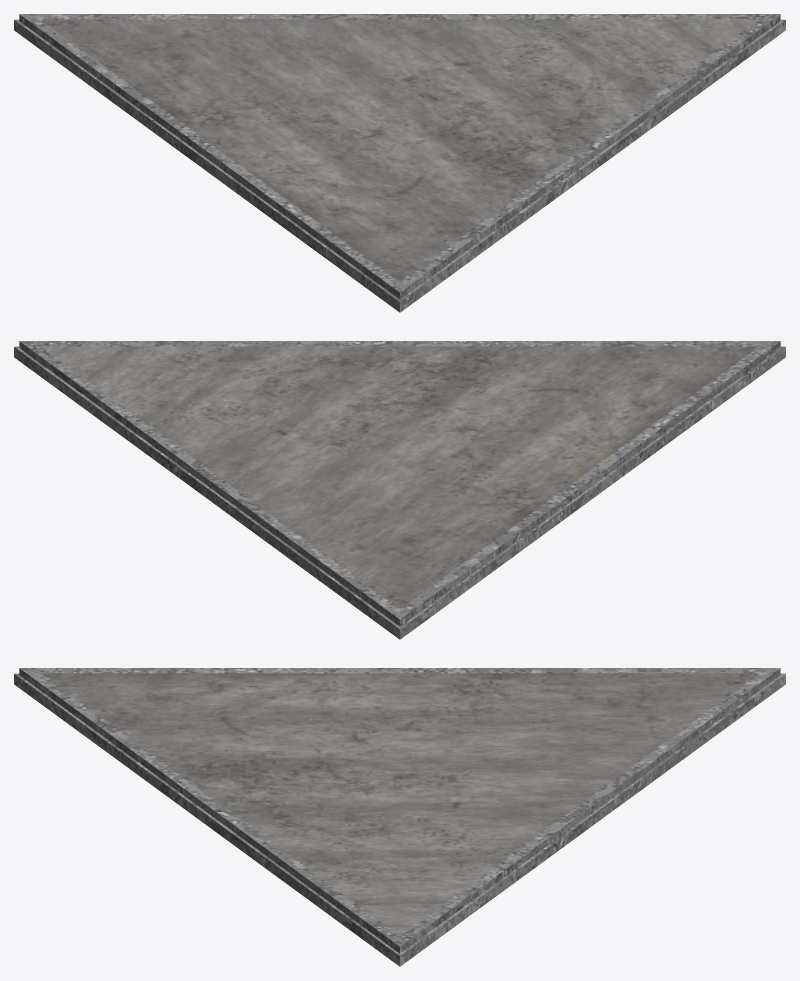
Rendered from stone_foundation_triangle_low_textured.glb.
The picture shows the model from 3 angles, top to bottom: view 1: azimuth 30°, elevation 25°; view 2: azimuth 150°, elevation 25°; view 3: azimuth 270°, elevation 25°; orthographic projection.
Parts seen in each view (by area): view 1: Cube.001; view 2: Cube.001; view 3: Cube.001.
Part boxes in pixels (<box>): Cube.001: <box>14,14,785,312</box>; Cube.001: <box>14,341,785,639</box>; Cube.001: <box>14,668,785,966</box>.
Size of the model in its own units: 1.73 by 0.05 by 2.
Materials: 1 (1 with a texture image).
